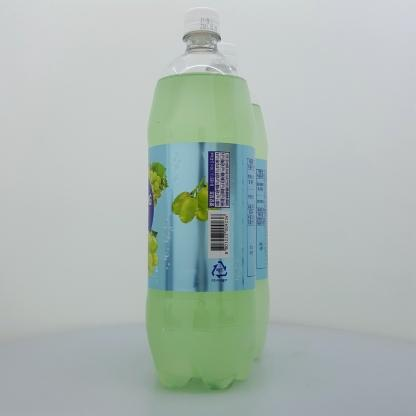---------------: (145, 7, 257, 390)
